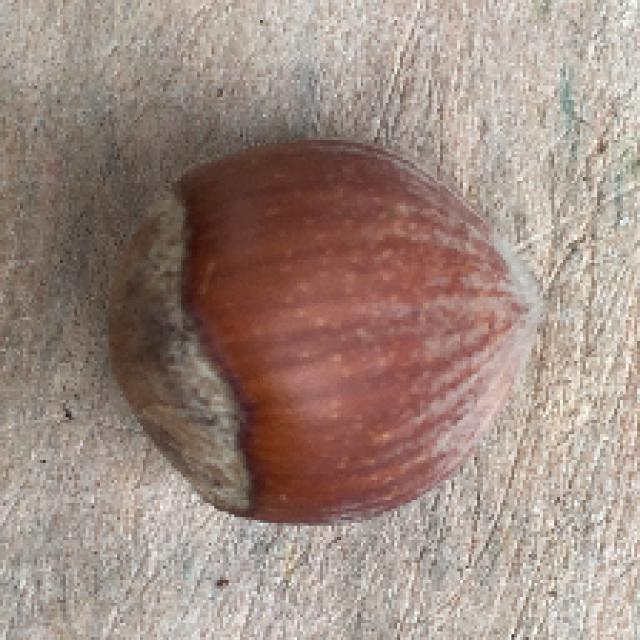QualityHazelnut: (108, 132, 548, 526)
